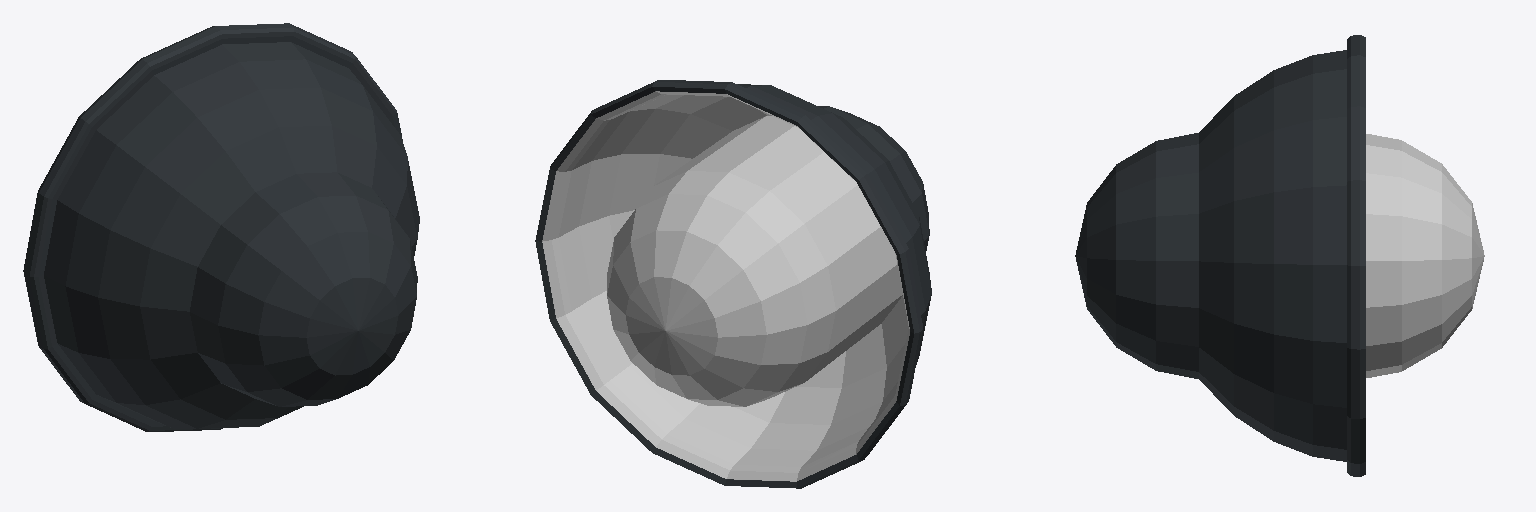
3 views of the same model, side by side, from view 1: azimuth 30°, elevation 25°; view 2: azimuth 150°, elevation 25°; view 3: azimuth 270°, elevation 25° (orthographic).
Visible parts, largest first — view 1: BezierCurve.002; view 2: BezierCurve.002, Glas.001; view 3: BezierCurve.002, Glas.001.
Boxes of the visible parts, x1=… form: BezierCurve.002: x1=23, y1=23, x2=419, y2=431; BezierCurve.002: x1=535, y1=80, x2=931, y2=488; Glas.001: x1=607, y1=116, x2=902, y2=406; BezierCurve.002: x1=1075, y1=35, x2=1365, y2=476; Glas.001: x1=1366, y1=134, x2=1484, y2=377.
Size of the model in its own units: 0.5411 by 0.5411 by 0.5001.
Materials: 3 (1 with a texture image).